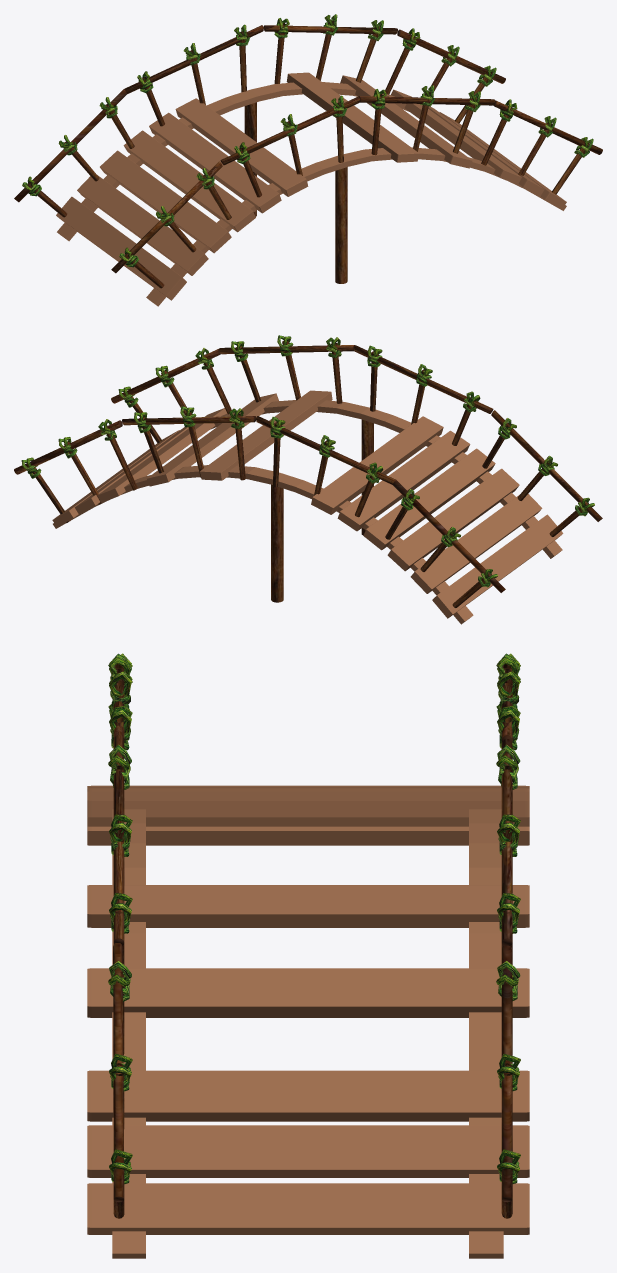
Rendered from eksikkopru.fbx.
3 renders of one model, top to bottom at view 1: azimuth 30°, elevation 25°; view 2: azimuth 150°, elevation 25°; view 3: azimuth 270°, elevation 25°, orthographic. The views are drawn at different scales.
Visible parts, largest first — view 1: eksikkopru; view 2: eksikkopru; view 3: eksikkopru.
Part boxes in pixels (<box>): eksikkopru: <box>14,14,602,306</box>; eksikkopru: <box>14,335,602,624</box>; eksikkopru: <box>87,653,529,1258</box>.
Bounding box in the file's own units: 986 × 359 × 385.
